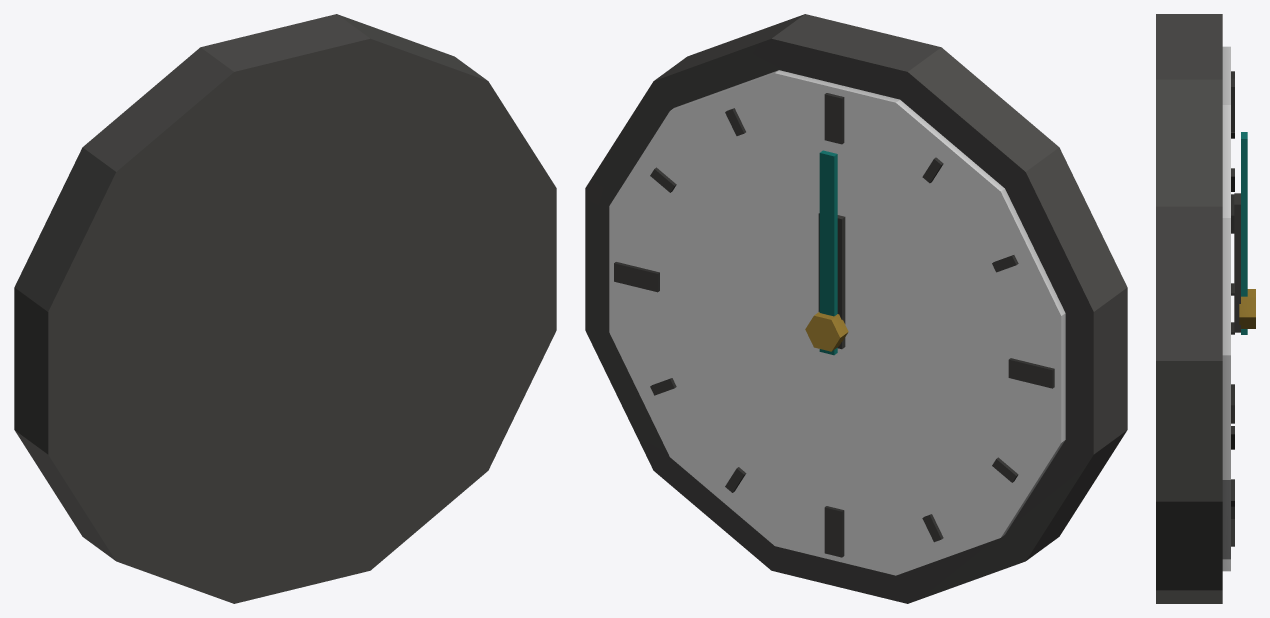
Rendered from clock_wall_01.glb.
3 renders of one model, left to right at view 1: azimuth 30°, elevation 25°; view 2: azimuth 150°, elevation 25°; view 3: azimuth 270°, elevation 25°, orthographic.
Parts seen in each view (by area): view 1: clock_wall_01_mesh; view 2: clock_wall_01_mesh, hand_minute_mesh, hand_hour_mesh; view 3: clock_wall_01_mesh, hand_minute_mesh, hand_hour_mesh.
Boxes of the visible parts, <box> form: clock_wall_01_mesh: <box>14,14,556,603</box>; clock_wall_01_mesh: <box>585,14,1127,603</box>; hand_minute_mesh: <box>819,150,837,355</box>; hand_hour_mesh: <box>818,213,845,349</box>; clock_wall_01_mesh: <box>1156,14,1255,603</box>; hand_minute_mesh: <box>1241,132,1247,334</box>; hand_hour_mesh: <box>1234,193,1240,332</box>.
Size of the model in its own units: 0.3477 by 0.3477 by 0.06.
Materials: 1 (1 with a texture image).
